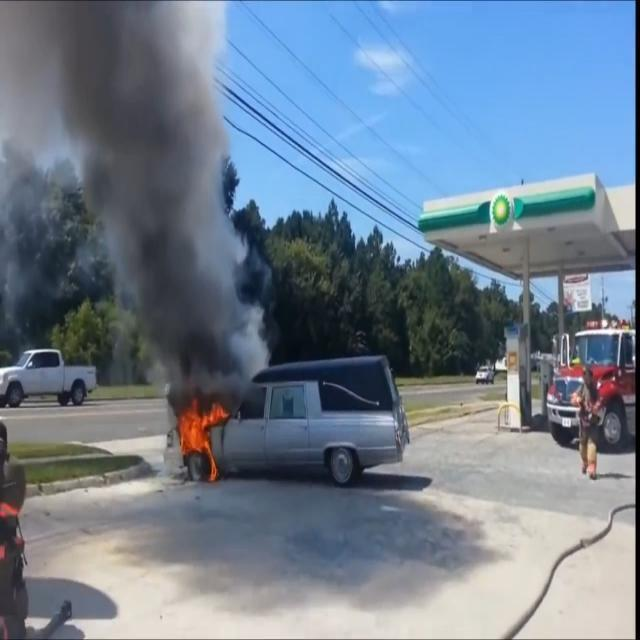fire: (174, 388, 234, 488)
